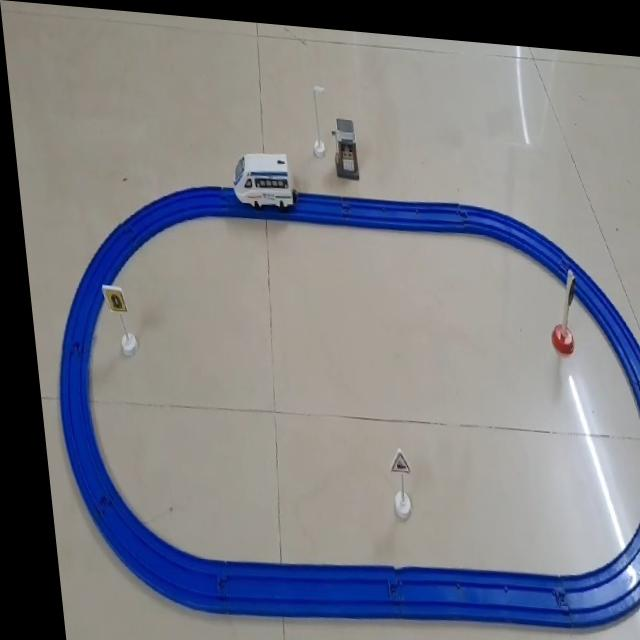bus: (226, 144, 296, 208)
